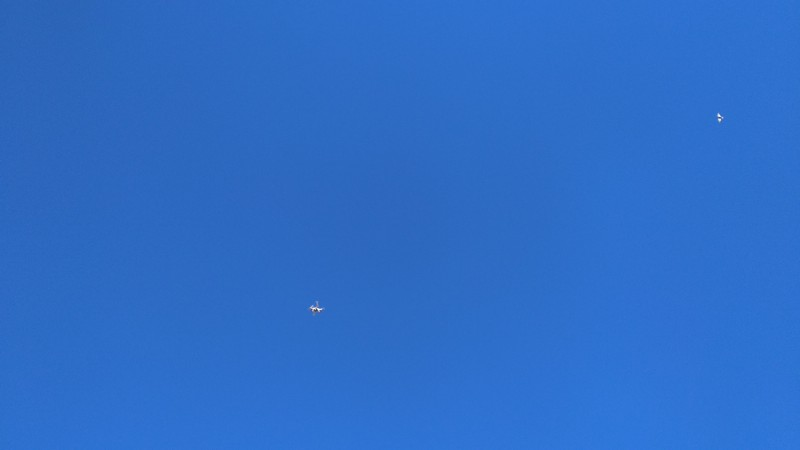drone: (307, 300, 324, 316)
